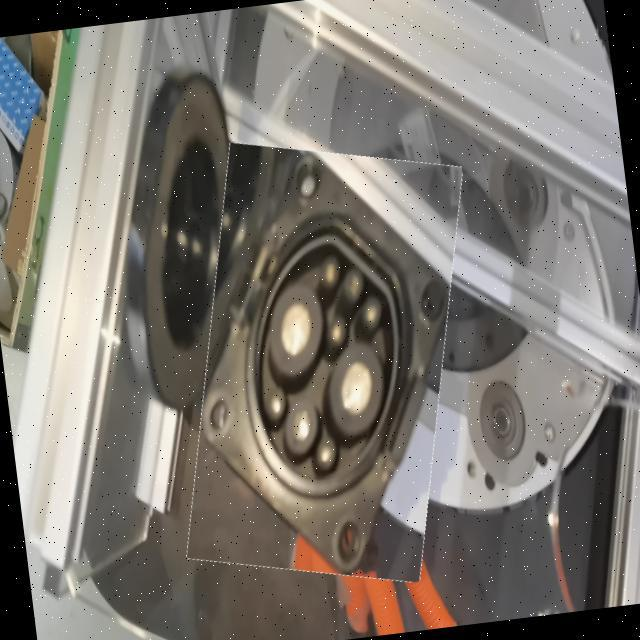GB-T: (203, 216, 444, 506)
